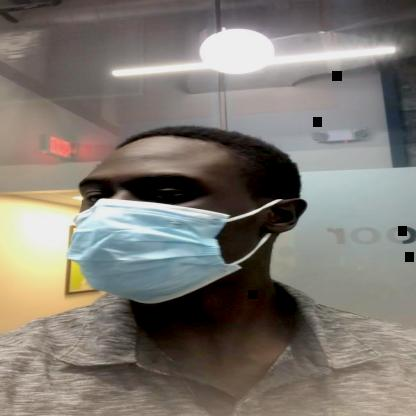mask: (72, 140, 296, 300)
